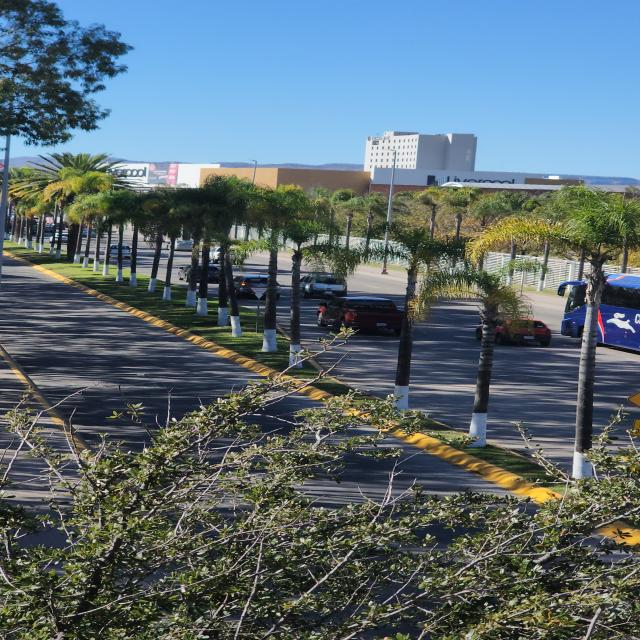Auto: (560, 274, 640, 348), (334, 297, 404, 337), (487, 317, 552, 346), (299, 272, 348, 299)
